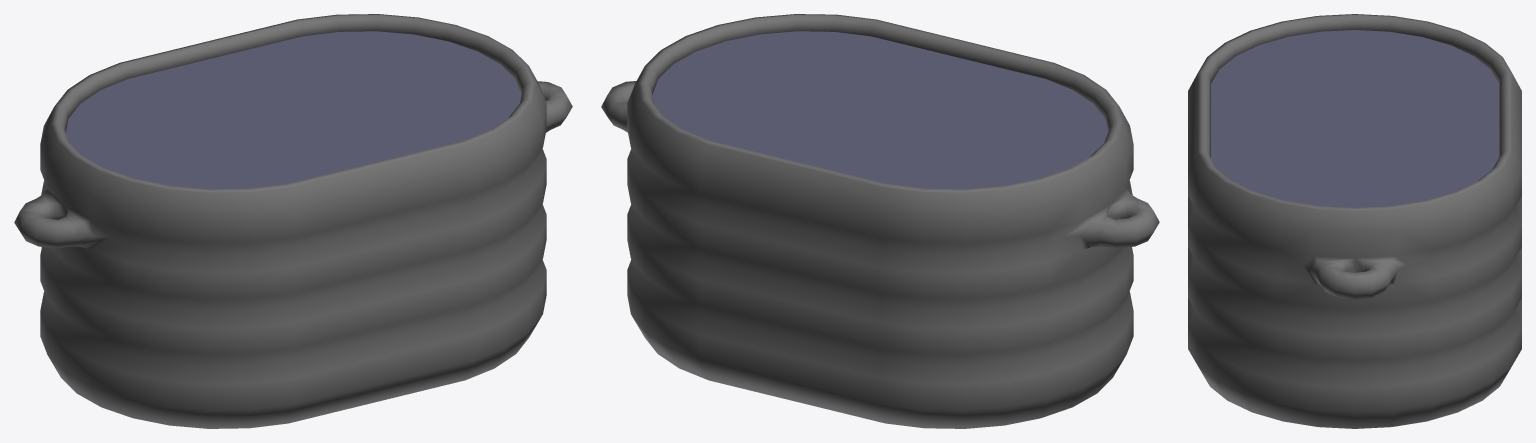
Rendered from Metal_Tub.gltf.
The picture shows the model from 3 angles, left to right: view 1: azimuth 30°, elevation 25°; view 2: azimuth 150°, elevation 25°; view 3: azimuth 270°, elevation 25°; orthographic projection. The views are drawn at different scales.
Parts seen in each view (by area): view 1: Metal_Tub, Metal_Tub_Water; view 2: Metal_Tub, Metal_Tub_Water; view 3: Metal_Tub, Metal_Tub_Water.
Part boxes in pixels (left/top/right/bottom): Metal_Tub: left=14, top=14, right=572, bottom=428; Metal_Tub_Water: left=66, top=31, right=521, bottom=189; Metal_Tub: left=601, top=14, right=1159, bottom=428; Metal_Tub_Water: left=652, top=31, right=1107, bottom=189; Metal_Tub: left=1188, top=14, right=1521, bottom=428; Metal_Tub_Water: left=1211, top=30, right=1498, bottom=207.
Size of the model in its own units: 139 by 58.07 by 79.93.
Materials: 2 (2 with a texture image).
